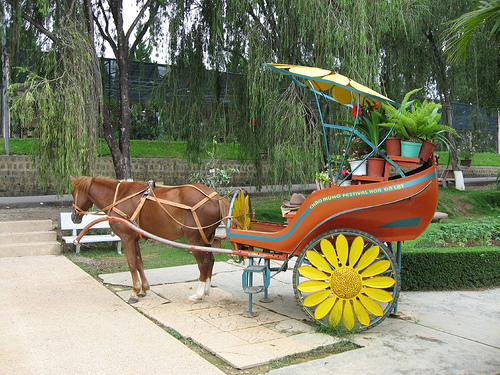horse: (67, 175, 234, 306)
